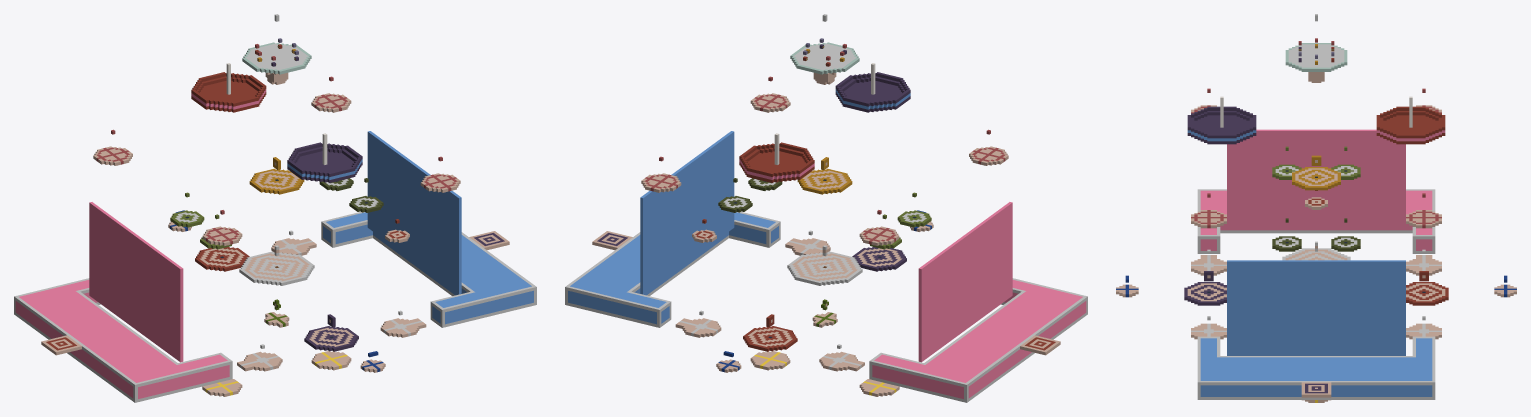
File: minecraft.obj
3 renders of one model, left to right at view 1: azimuth 30°, elevation 25°; view 2: azimuth 150°, elevation 25°; view 3: azimuth 270°, elevation 25°, orthographic.
Bounding box in the file's own units: 158 × 120 × 123.
